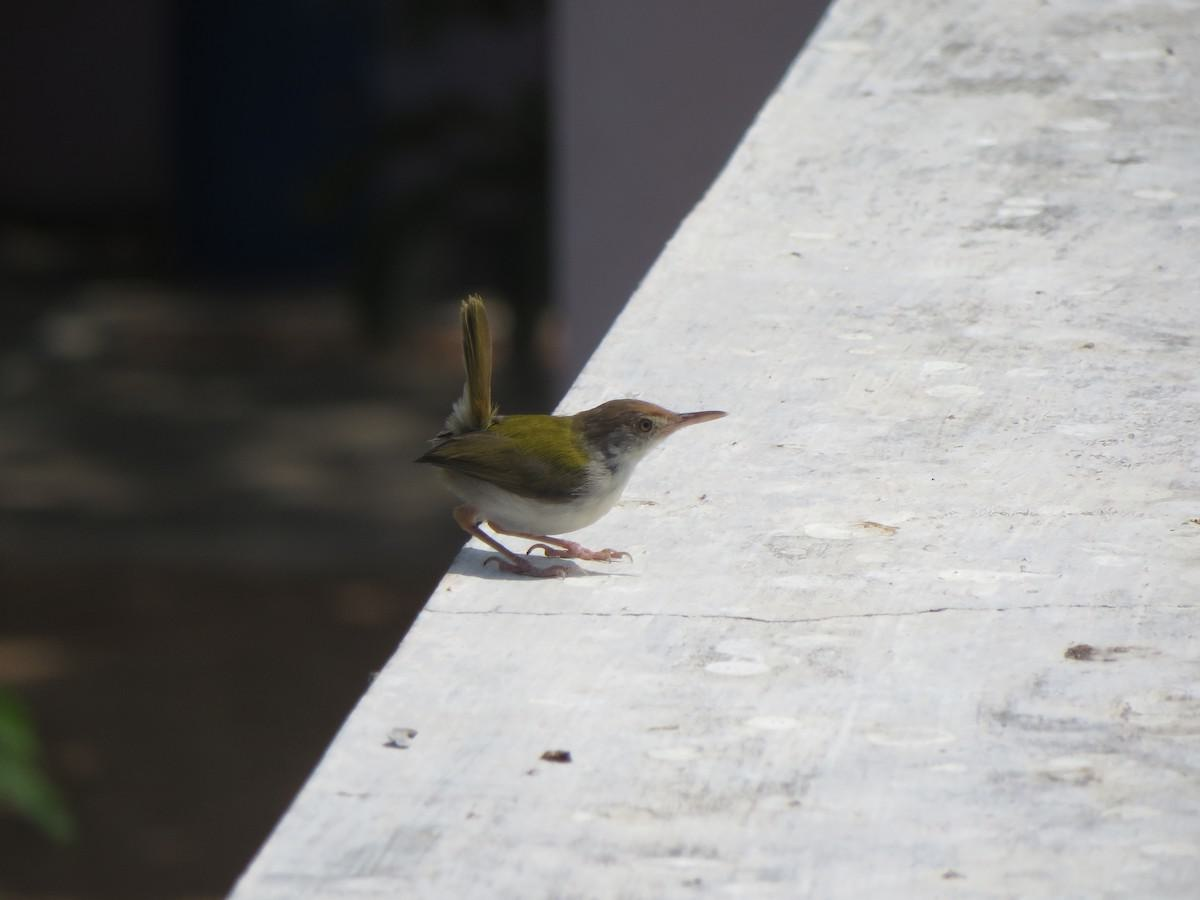tailorbird: (387, 297, 749, 608)
